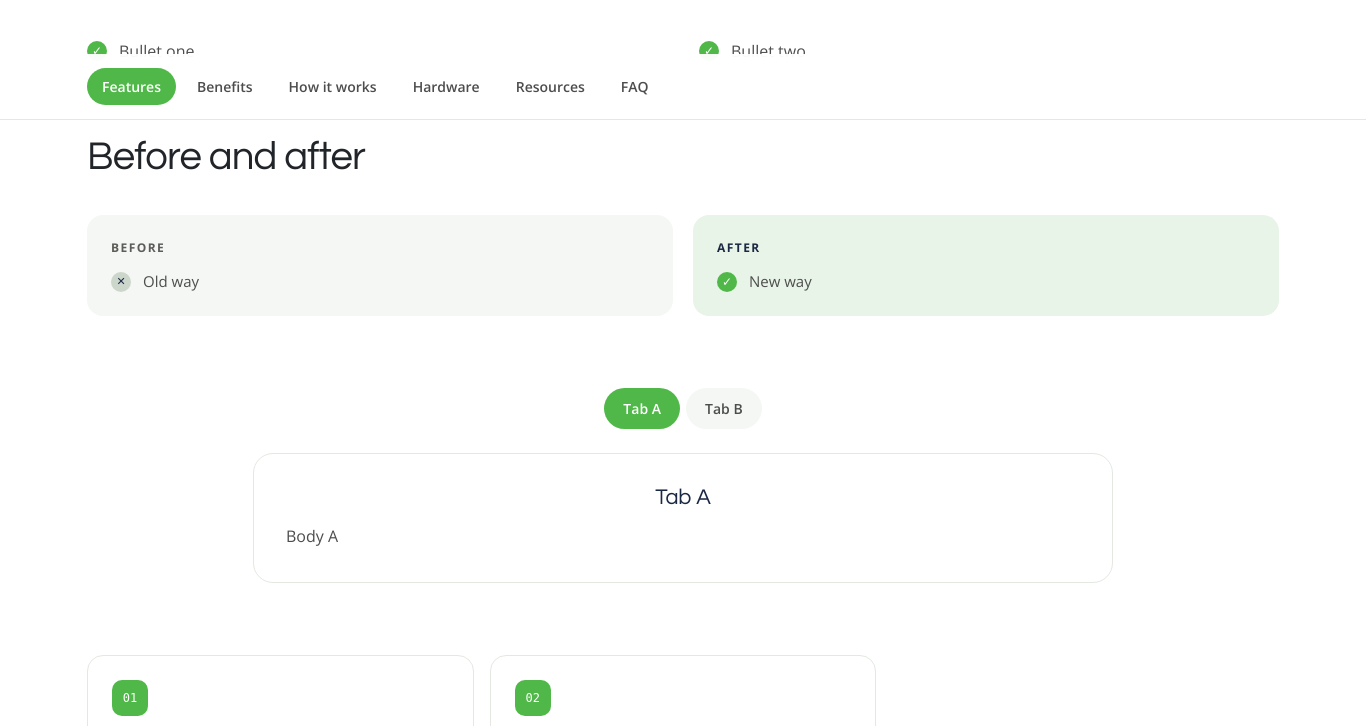
Scenario: DetailPage sections › tabs switch their panel
(page scrolled)
Expected: the text "Body A" is shown, [286, 525, 338, 547]
Click the tab "Tab B" at (724, 409), box [686, 388, 762, 429]
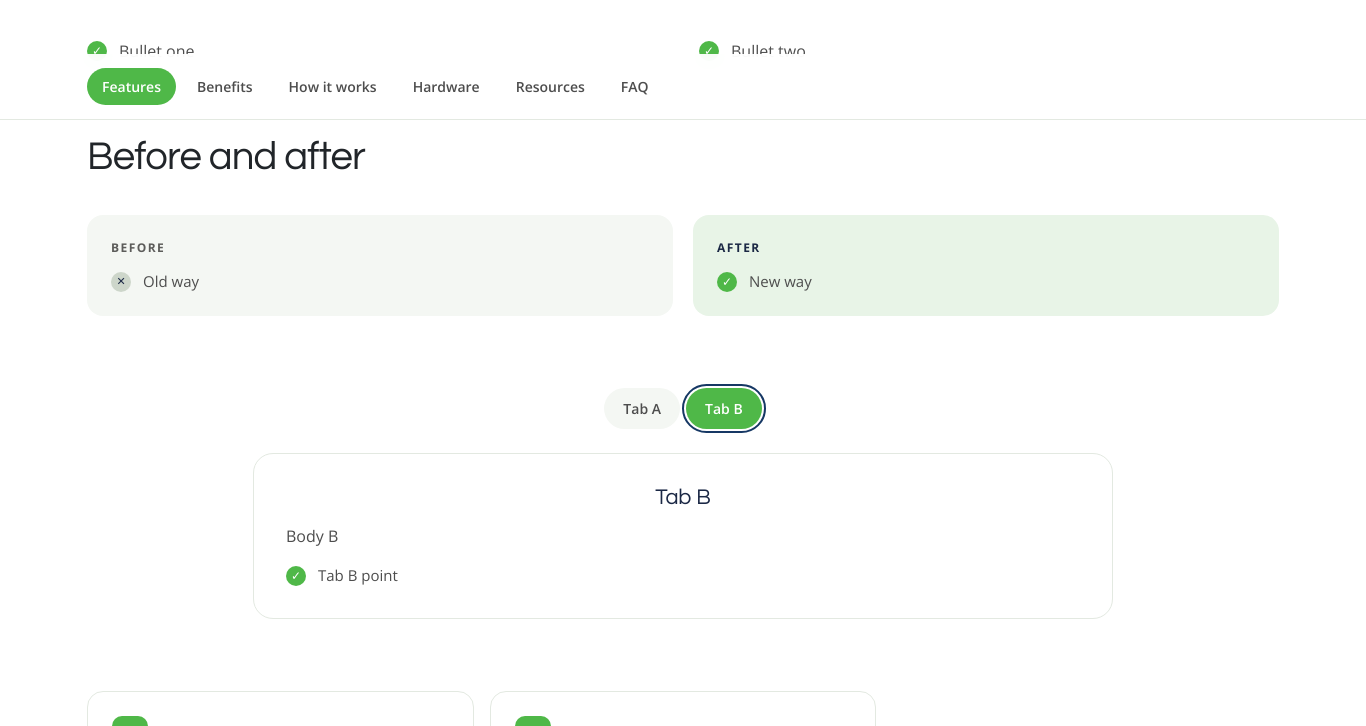
Now the text "Body B" is shown, box [286, 525, 338, 547]
Now the list item "Tab B point" is shown, box [318, 565, 398, 585]
